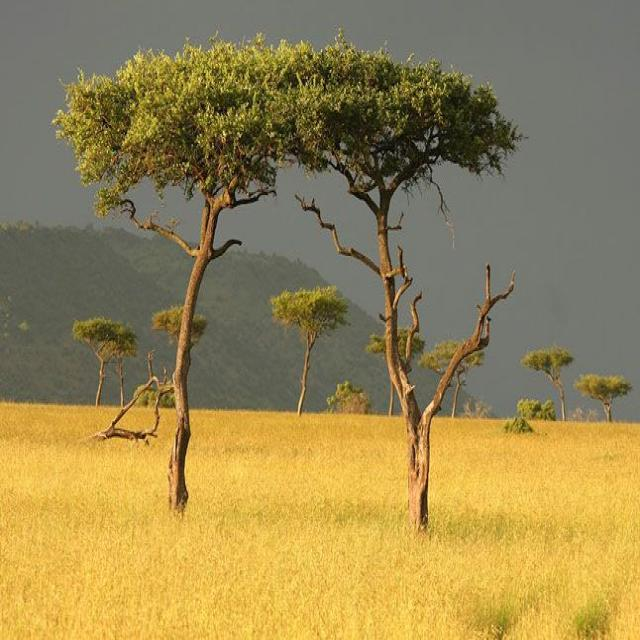Acacia: (50, 55, 525, 498)
